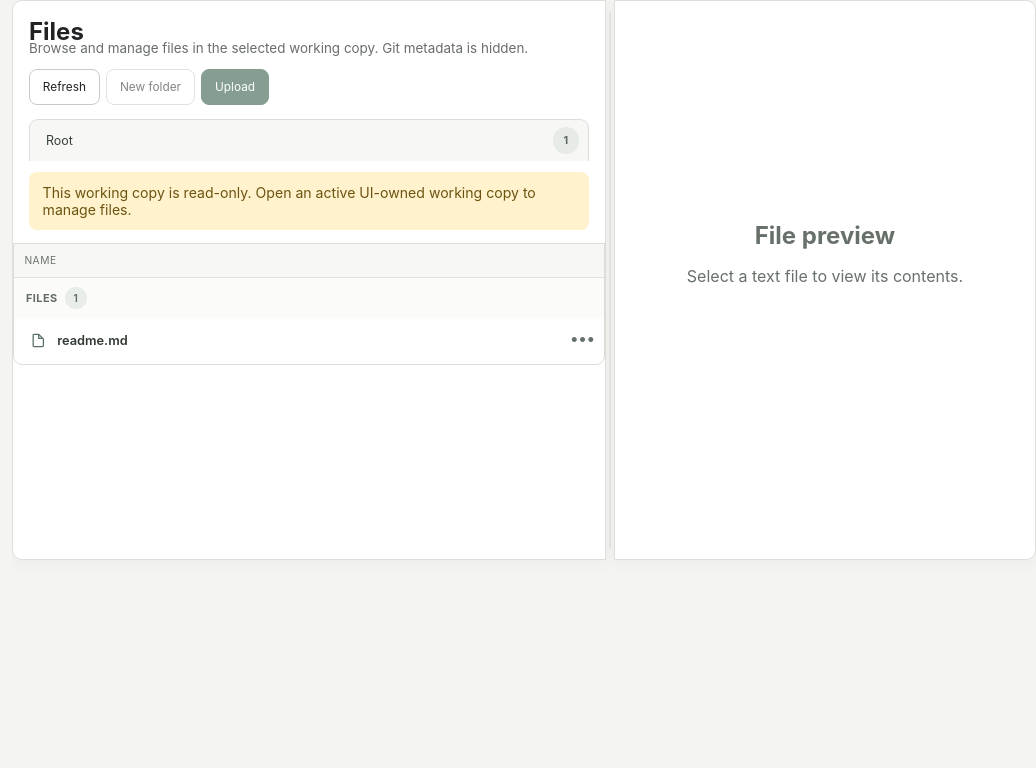
Test: working tree file manager › hides mutation controls for read-only roles
Check: the text "read-only" is shown, box [43,184,536,218]
Check: the button "New folder" is disabled, box [106,69,195,104]
Click the button "readme.md" at (92, 341), box [14,318,562,363]
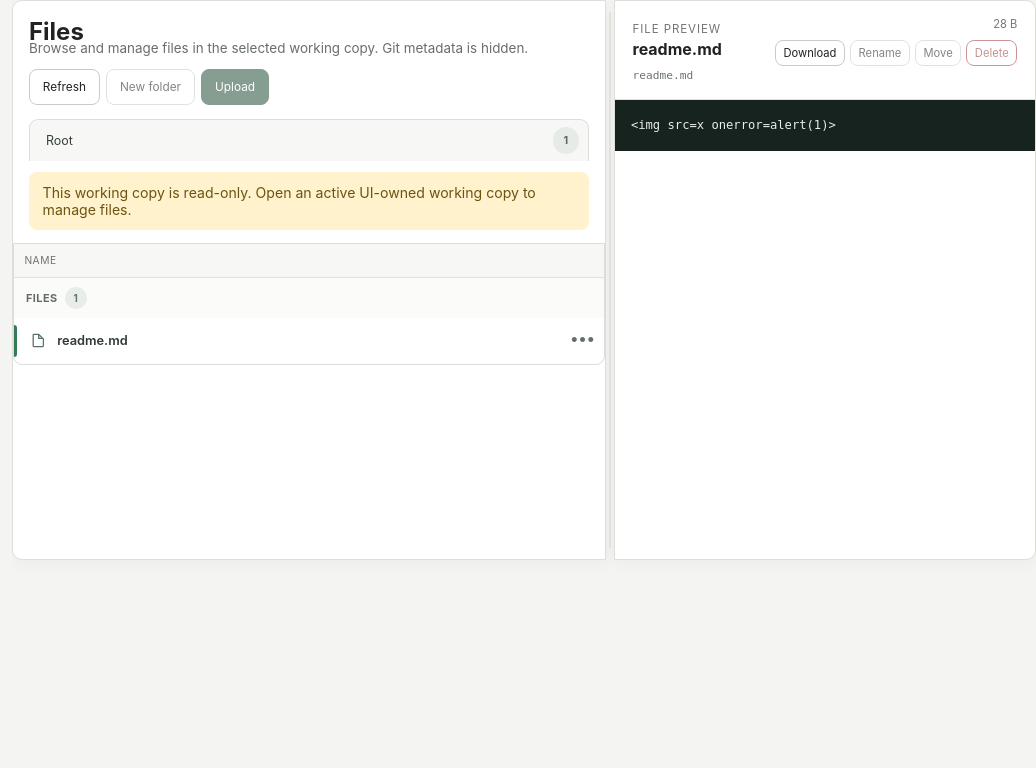
Check: the button "Rename" is disabled, box [850,40,910,66]
